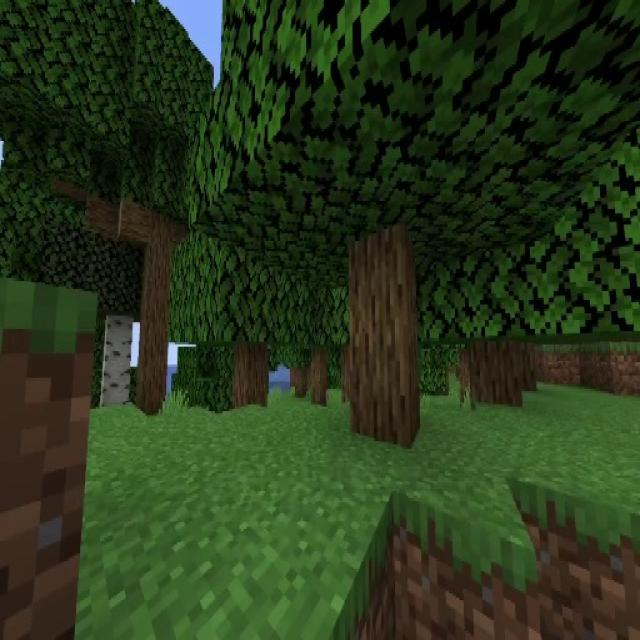birch: (70, 200, 160, 405)
birch_log: (103, 317, 133, 407)
oak: (232, 0, 537, 440), (180, 216, 315, 409)
oak_log: (345, 228, 417, 444), (138, 217, 172, 414), (468, 331, 520, 409), (233, 343, 267, 409), (310, 347, 326, 405)
